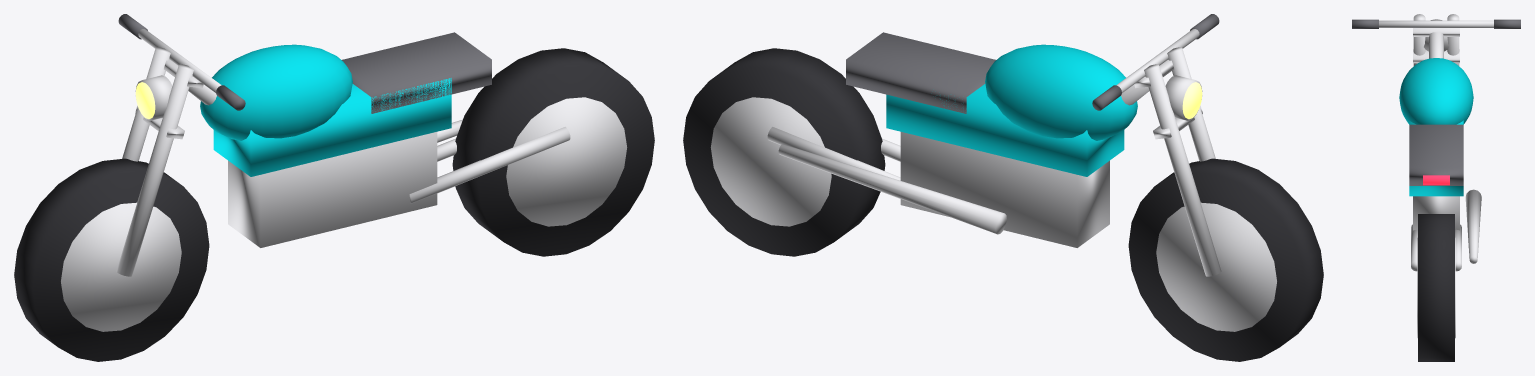
The model's file is bike.glb.
The picture shows the model from 3 angles, left to right: view 1: azimuth 30°, elevation 25°; view 2: azimuth 150°, elevation 25°; view 3: azimuth 270°, elevation 25°; orthographic projection. The views are drawn at different scales.
Visible parts, largest first — view 1: Rear_Tyre, Front_Tyre, Engine_Block, Rear_Rim, Front_Rim, Fuel_Tank, Chassis_Frame, Seat, Front_Fork_L, Swingarm_L, Front_Fork_R, Handlebars (+2 smaller); view 2: Rear_Tyre, Front_Tyre, Engine_Block, Front_Rim, Rear_Rim, Fuel_Tank, Chassis_Frame, Seat, Tapered_Exhaust, Front_Fork_R, Swingarm_R, Front_Fork_L (+3 smaller); view 3: Rear_Tyre, Fuel_Tank, Seat, Engine_Block, Tapered_Exhaust, Handlebars, Chassis_Frame, Steering_Neck_Connection, Triple_Clamp_Upper, Front_Fork_L, Front_Fork_R, Swingarm_L (+6 smaller).
Part boxes in pixels (x1,y1,x2,y2): Rear_Tyre: [452, 48, 654, 256]; Front_Tyre: [14, 158, 209, 361]; Engine_Block: [228, 132, 437, 247]; Rear_Rim: [506, 97, 627, 226]; Front_Rim: [61, 202, 181, 331]; Fuel_Tank: [200, 44, 352, 140]; Chassis_Frame: [213, 78, 451, 176]; Seat: [342, 32, 491, 113]; Front_Fork_L: [116, 64, 193, 276]; Swingarm_L: [409, 127, 570, 203]; Front_Fork_R: [122, 47, 170, 161]; Handlebars: [138, 29, 221, 92]; Rear_Tyre: [683, 48, 885, 256]; Front_Tyre: [1128, 158, 1323, 361]; Engine_Block: [900, 132, 1109, 247]; Front_Rim: [1156, 202, 1276, 331]; Rear_Rim: [710, 97, 831, 226]; Fuel_Tank: [985, 44, 1137, 140]; Chassis_Frame: [886, 84, 1124, 176]; Seat: [846, 32, 995, 113]; Tapered_Exhaust: [778, 144, 1006, 234]; Front_Fork_R: [1144, 64, 1221, 276]; Swingarm_R: [767, 127, 900, 180]; Front_Fork_L: [1167, 47, 1215, 161]; Rear_Tyre: [1418, 214, 1454, 361]; Fuel_Tank: [1399, 58, 1473, 124]; Seat: [1409, 124, 1463, 185]; Engine_Block: [1413, 196, 1459, 230]; Tapered_Exhaust: [1465, 189, 1481, 263]; Handlebars: [1379, 20, 1493, 27]; Chassis_Frame: [1409, 120, 1463, 196]; Steering_Neck_Connection: [1429, 32, 1443, 58]; Triple_Clamp_Upper: [1413, 28, 1459, 36]; Front_Fork_L: [1413, 14, 1425, 65]; Front_Fork_R: [1447, 14, 1459, 65]; Swingarm_L: [1411, 224, 1417, 271].
Bounding box in the file's own units: 1.54 × 0.6679 × 0.5.
